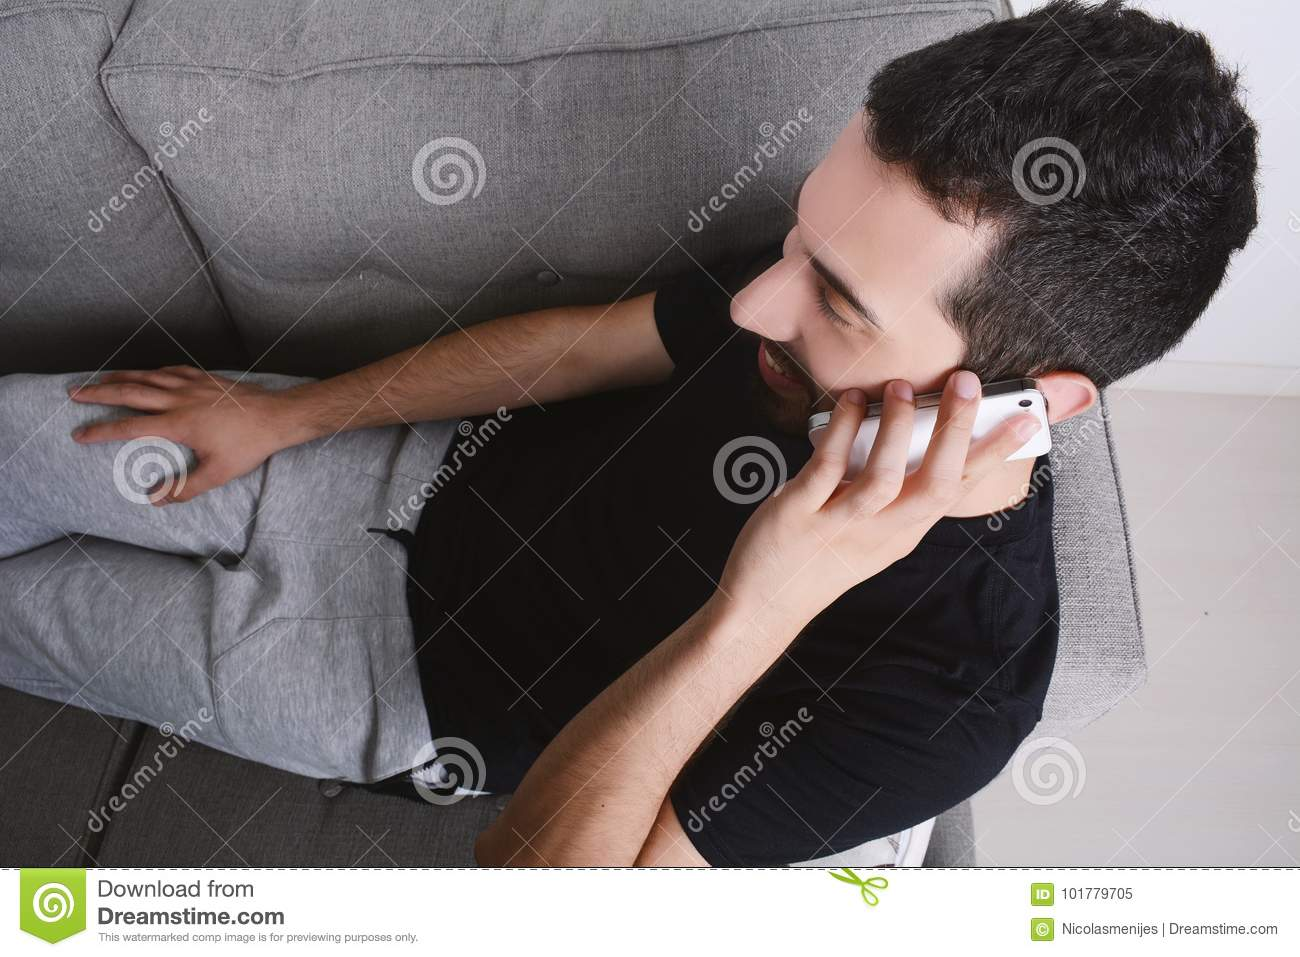phone: (807, 378, 1055, 478)
talk: (708, 176, 1055, 604)
